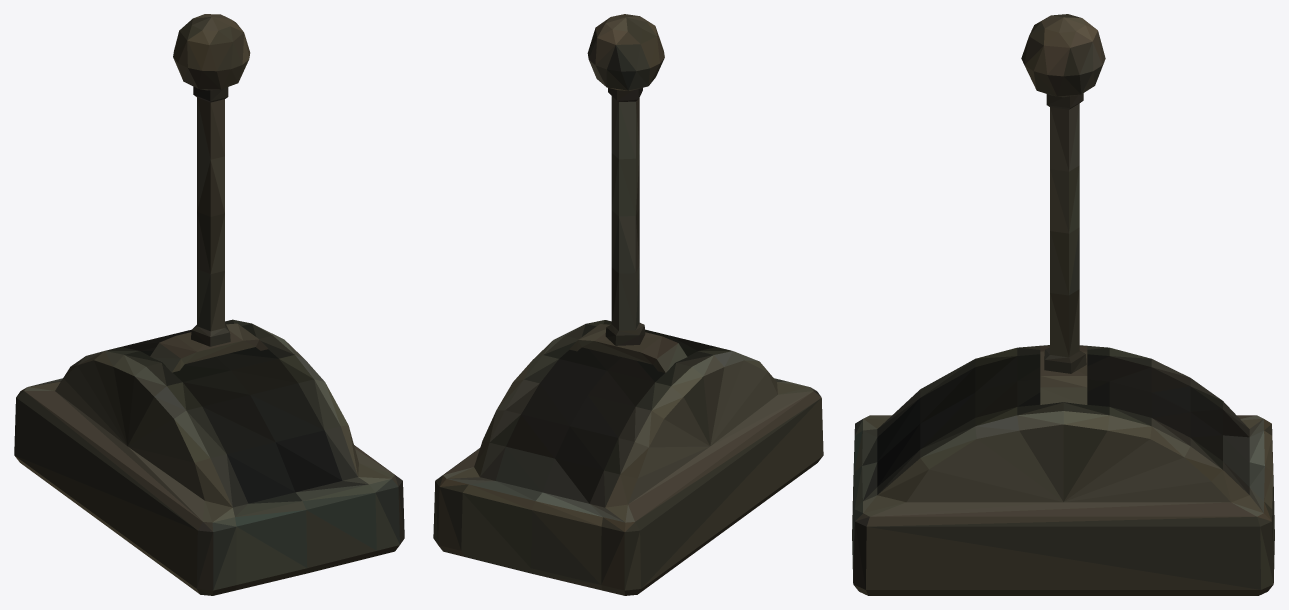
The model's file is prop_interact_lever.fbx.
3 renders of one model, left to right at view 1: azimuth 30°, elevation 25°; view 2: azimuth 150°, elevation 25°; view 3: azimuth 270°, elevation 25°, orthographic. The views are drawn at different scales.
Visible parts, largest first — view 1: base, arm; view 2: base, arm; view 3: base, arm.
Boxes of the visible parts, x1=… form: base: x1=14, y1=319, x2=404, y2=595; arm: x1=150, y1=14, x2=267, y2=372; base: x1=433, y1=320, x2=823, y2=595; arm: x1=569, y1=14, x2=687, y2=372; base: x1=852, y1=345, x2=1274, y2=595; arm: x1=1021, y1=14, x2=1105, y2=404.
Size of the model in its own units: 0.6968 by 1.56 by 1.13.
